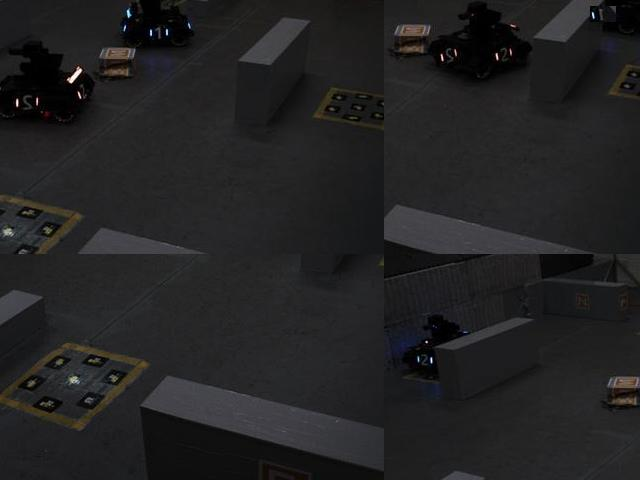armor: (12, 90, 45, 115), (437, 44, 464, 69), (489, 44, 516, 66), (145, 22, 171, 43), (590, 7, 617, 24), (73, 81, 92, 104), (413, 351, 437, 369)
